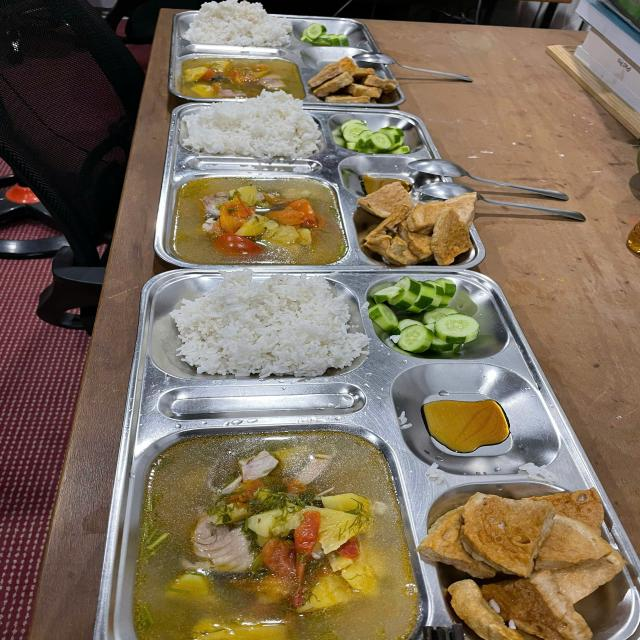canhchua: (145, 438, 403, 640), (176, 176, 337, 263), (180, 57, 301, 98)
chaca: (428, 491, 619, 640), (357, 193, 478, 260), (312, 59, 394, 102)
dualeo: (374, 280, 484, 352), (342, 119, 414, 153), (298, 23, 351, 46)
salad: (170, 274, 362, 378), (185, 102, 319, 156), (189, 0, 286, 46)
